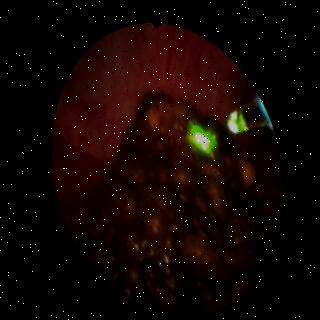laser: (187, 120, 214, 150), (226, 104, 246, 130)
stone: (75, 91, 270, 311)
tissue: (52, 23, 247, 229)
